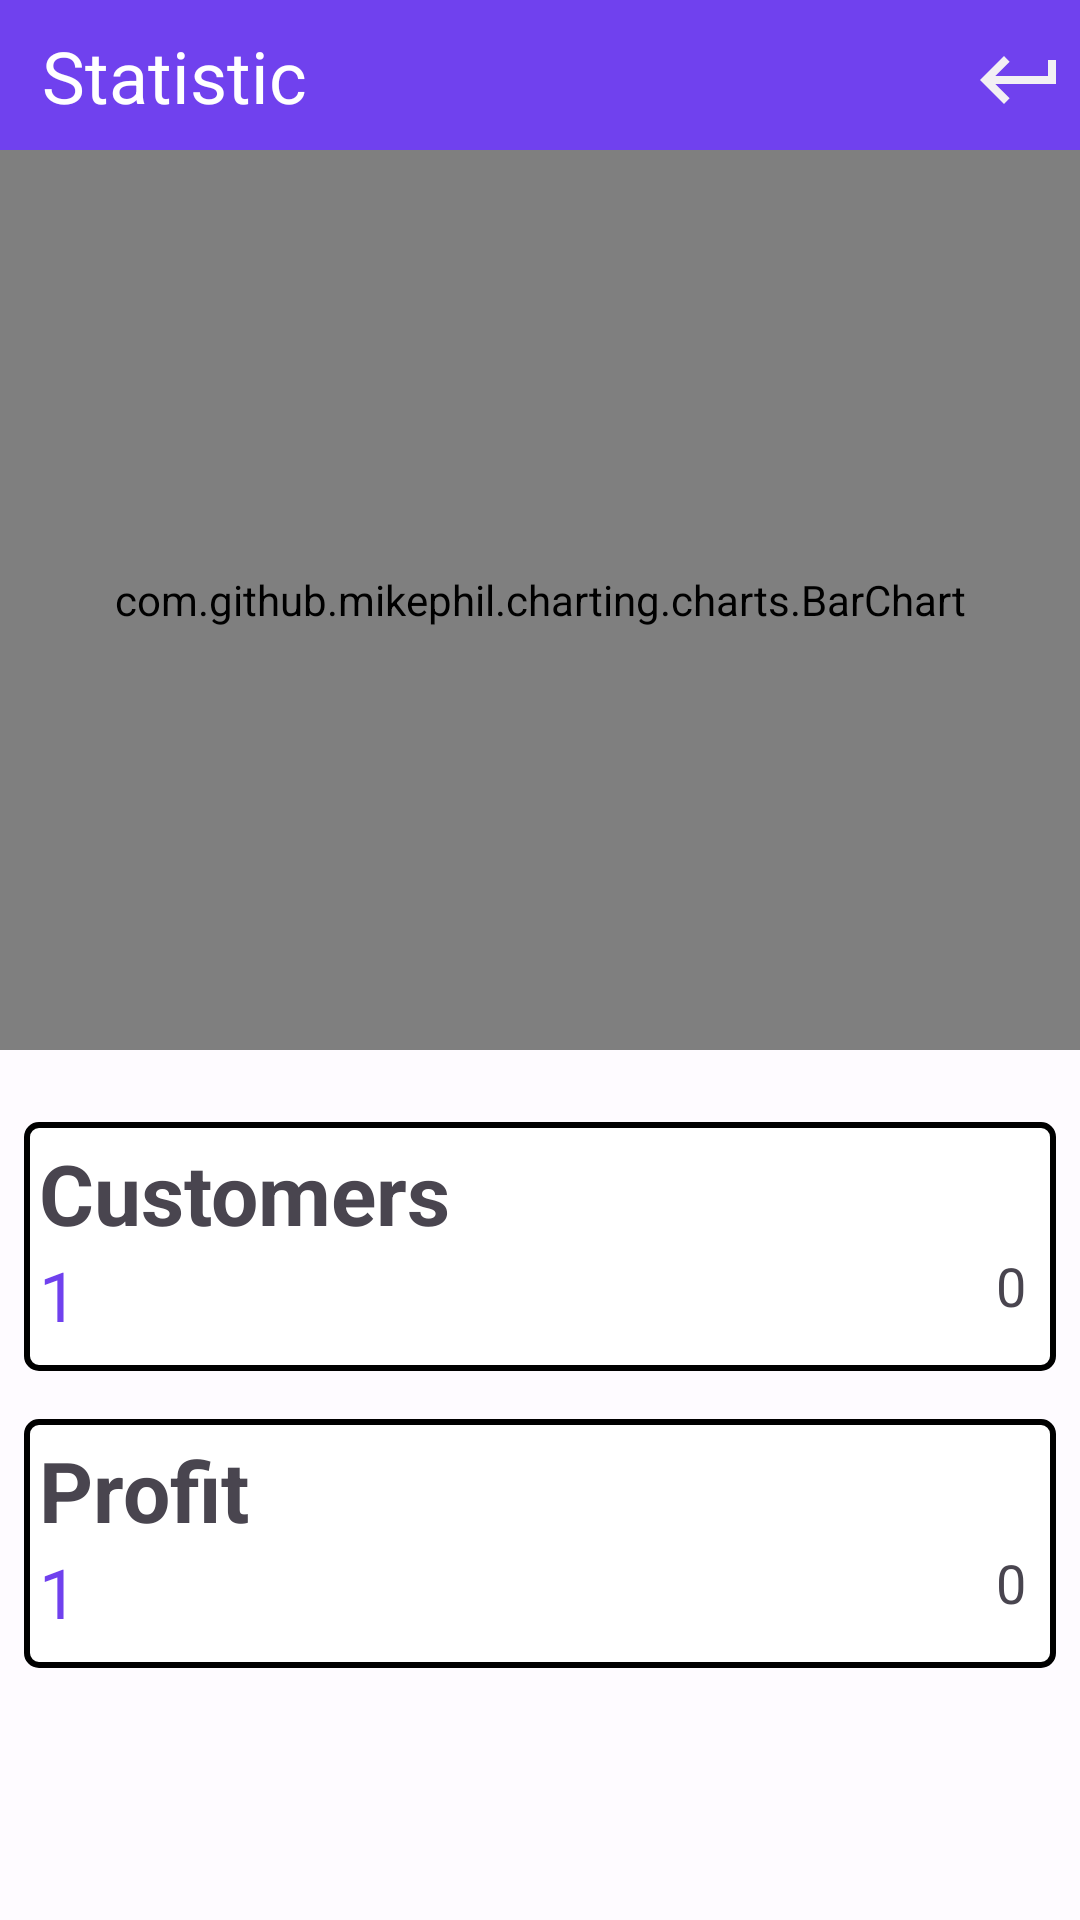

Icons on this 1080px×1920px Android screen, each with its box as bbox=[x1, y1, x2, y2]:
keyboard return: bbox=[980, 56, 1056, 104]
